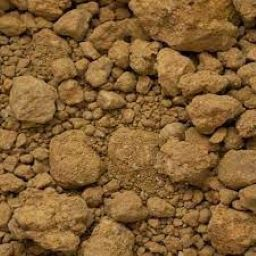dirt: (2, 2, 250, 250)
